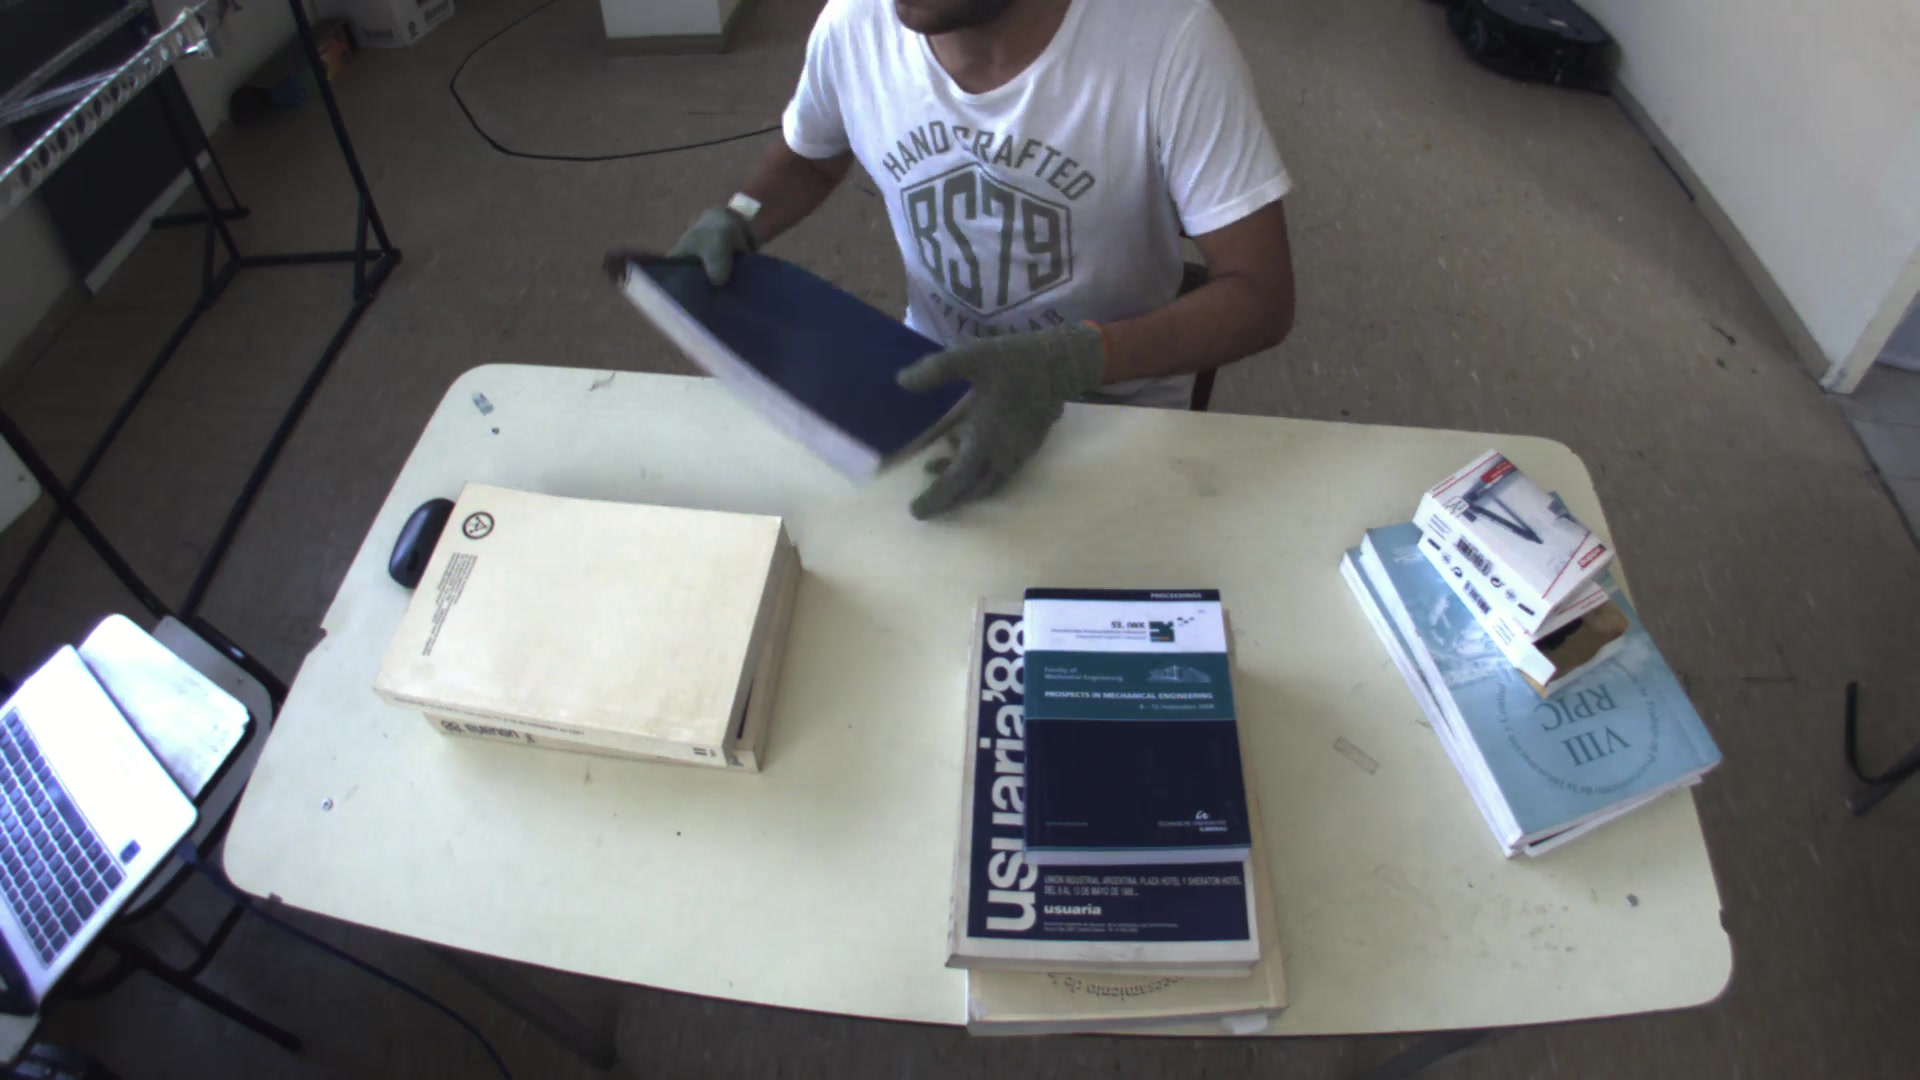hand: (882, 301, 1116, 524), (658, 193, 752, 287)
